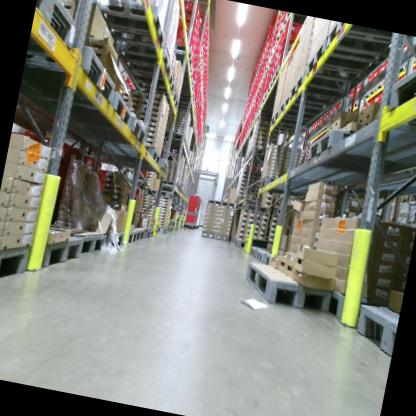pallet: (21, 32, 122, 102), (95, 82, 169, 173), (240, 257, 335, 317), (303, 31, 388, 91), (305, 123, 389, 179), (92, 0, 172, 47), (325, 21, 402, 64), (28, 0, 87, 55), (351, 299, 400, 358), (288, 71, 355, 113), (386, 36, 416, 128), (114, 38, 175, 79), (277, 90, 335, 126), (0, 238, 35, 297), (123, 59, 178, 94), (40, 229, 83, 272), (65, 222, 110, 262), (325, 284, 366, 323), (269, 104, 315, 135), (133, 82, 180, 107), (125, 112, 153, 151), (168, 41, 196, 69), (104, 225, 127, 252), (142, 184, 175, 201), (137, 143, 163, 164), (240, 201, 272, 216), (161, 129, 187, 147), (175, 94, 197, 113), (270, 61, 284, 90), (165, 137, 189, 153), (248, 244, 270, 260), (158, 177, 181, 192), (234, 194, 258, 207), (167, 142, 190, 155), (178, 86, 196, 102), (125, 227, 140, 246), (244, 151, 264, 165), (260, 91, 278, 106), (180, 62, 195, 80), (265, 81, 279, 99), (132, 224, 146, 242), (271, 206, 291, 218), (182, 75, 196, 92), (220, 198, 236, 211), (254, 248, 267, 264), (143, 225, 155, 241), (201, 228, 216, 240), (262, 251, 274, 266), (208, 196, 222, 208), (232, 239, 247, 250), (156, 224, 169, 236), (214, 232, 228, 243), (189, 107, 199, 122), (167, 219, 175, 227), (226, 235, 235, 242), (172, 203, 179, 211), (170, 224, 175, 233), (167, 225, 172, 233), (180, 181, 184, 190), (178, 187, 183, 193)
